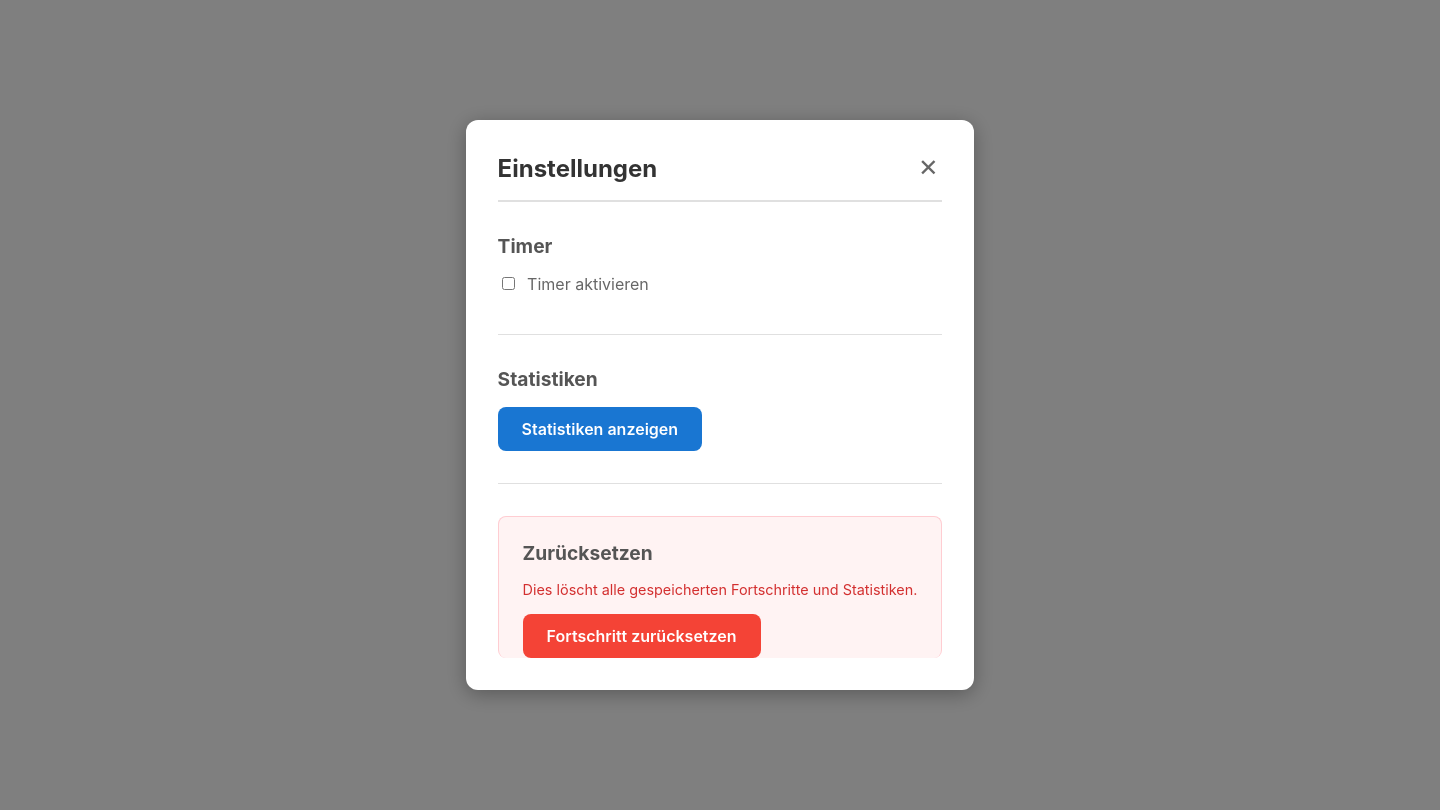
Test: Settings Component › should show reset confirmation
This screenshot has width=1440, height=810.
Click the button "Fortschritt zurücksetzen" at (642, 636), box [523,614,760,658]
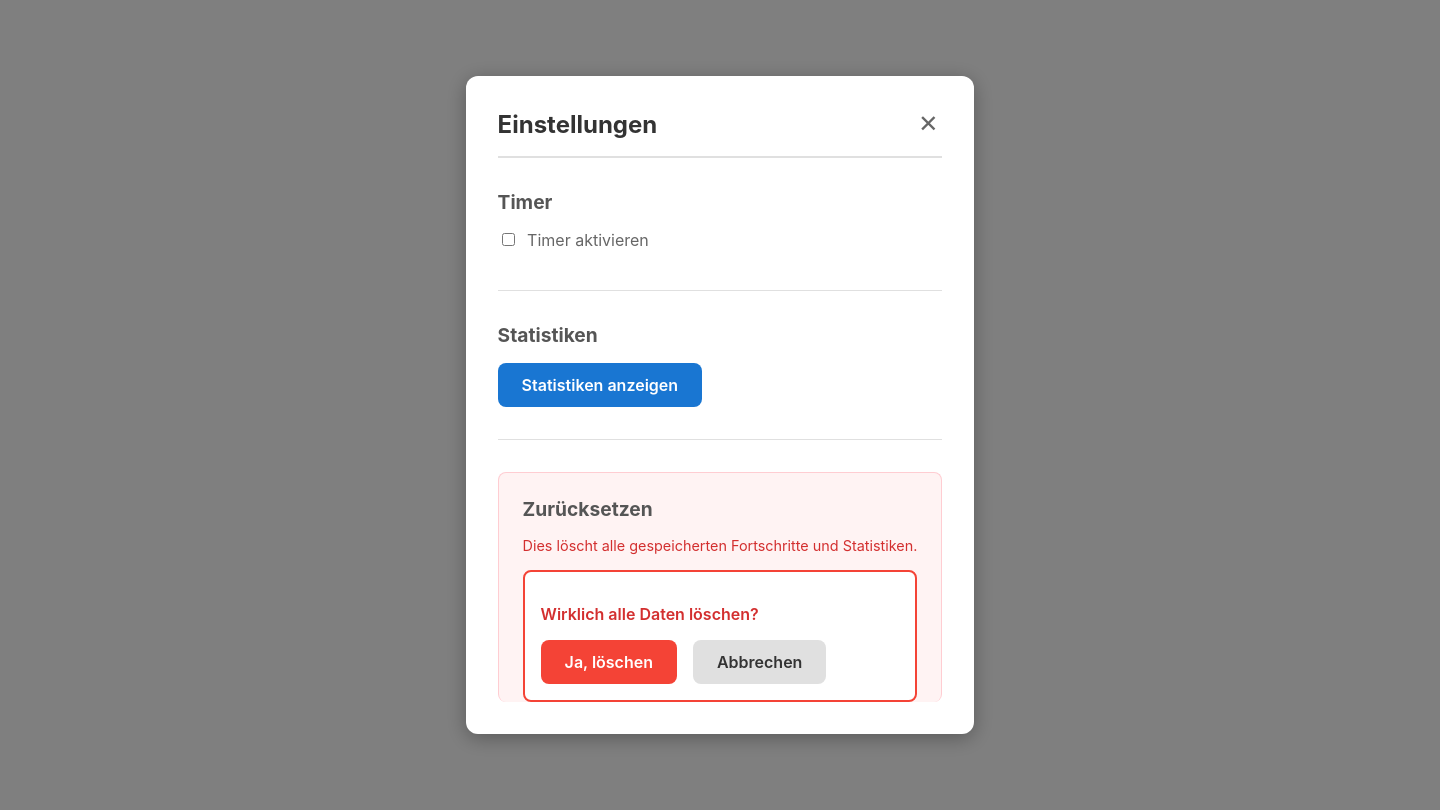
expect the text "Wirklich alle Daten löschen?" is shown: met, box [541,604,759,624]
